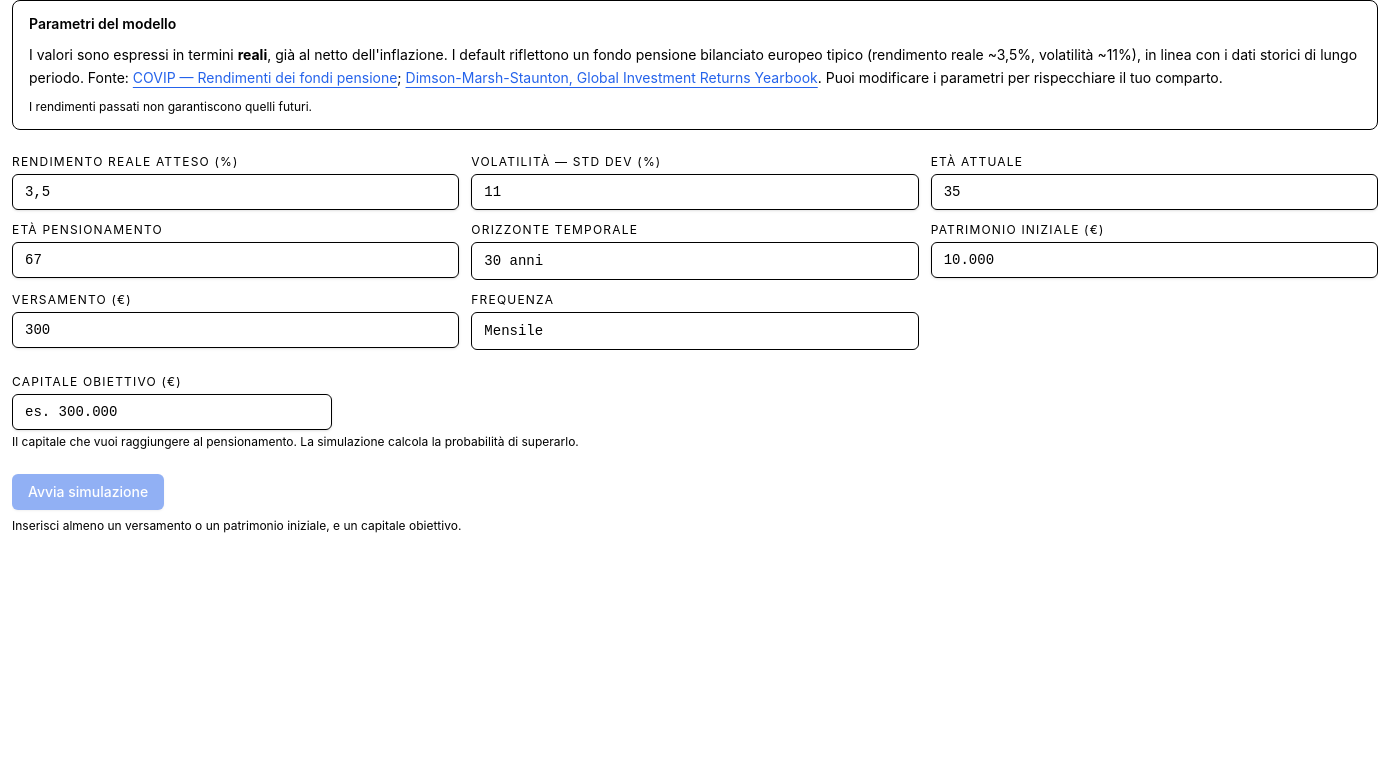
Scenario: MonteCarlo component › button state › is enabled when patrimonio > 0 and obiettivo > 0
Type "200.000" into the field labelled "Capitale obiettivo (€)" at (172,412), box [12,394,332,430]
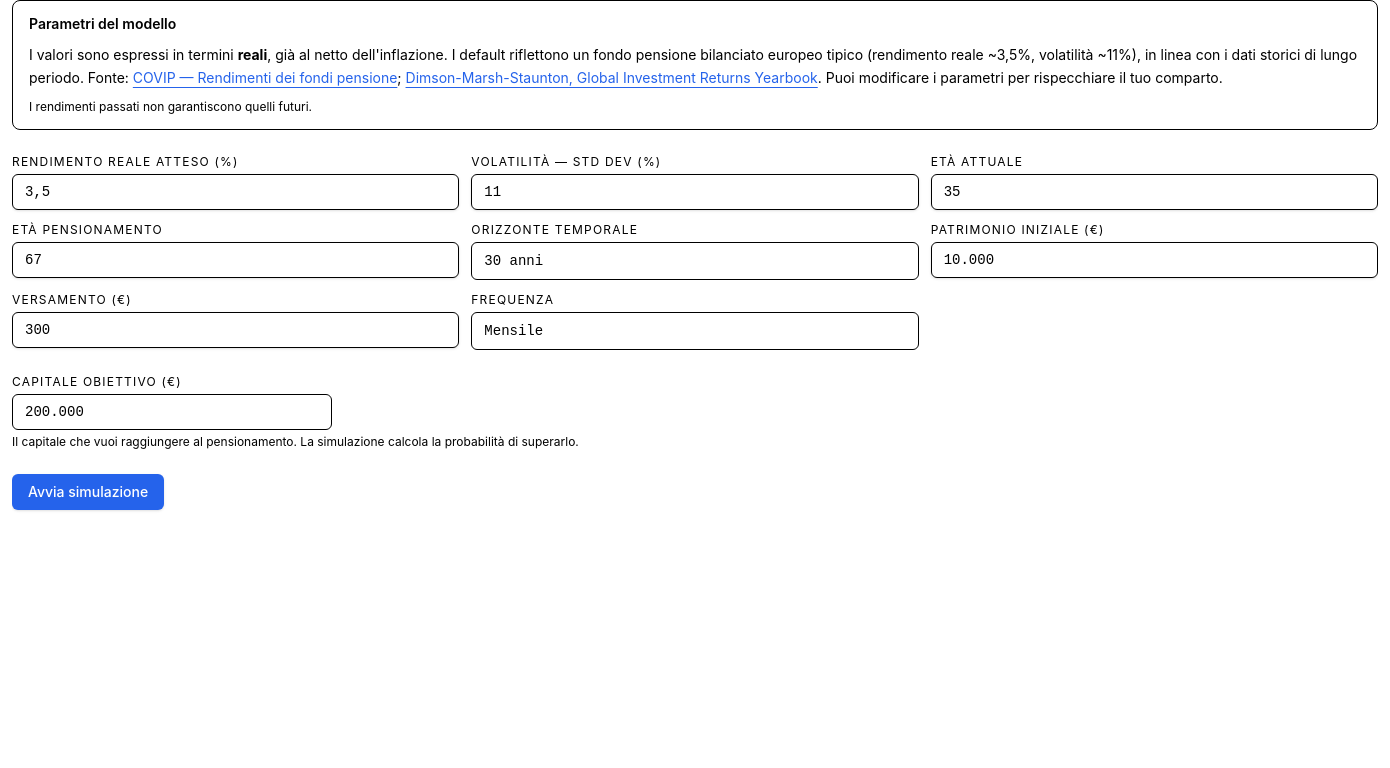
Expected: the button "Avvia simulazione" is enabled, [12,474,164,510]
